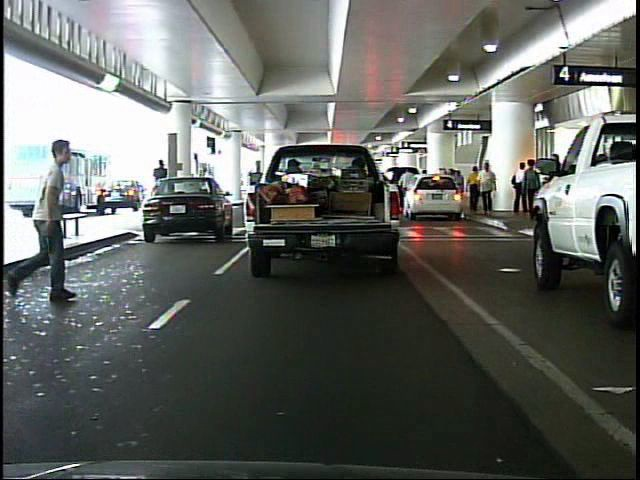person: (11, 129, 95, 316), (148, 156, 174, 215), (471, 156, 495, 219), (512, 156, 533, 217), (464, 160, 483, 220)
